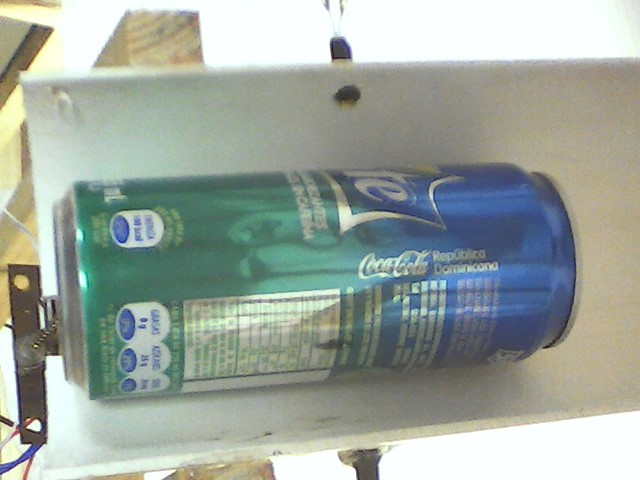lata: (48, 154, 586, 405)
